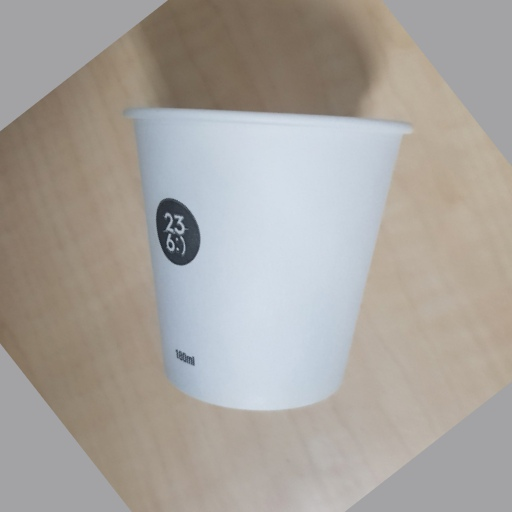Paper_1: (117, 102, 416, 412)
